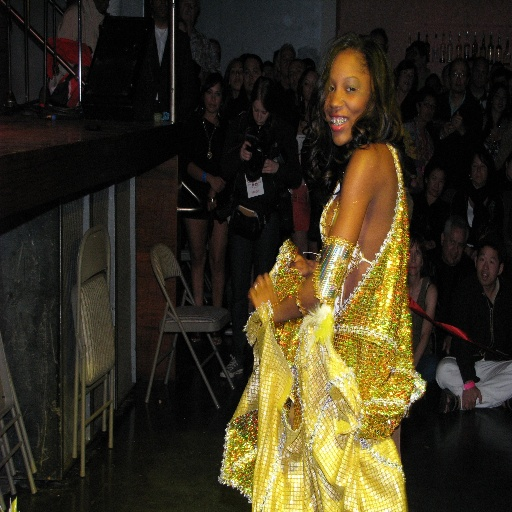hand: (247, 271, 279, 325), (288, 253, 311, 277), (461, 386, 482, 410), (240, 139, 252, 163), (261, 160, 278, 175), (211, 178, 226, 193), (451, 112, 461, 133), (441, 337, 453, 354), (208, 193, 217, 213), (443, 122, 455, 136), (424, 242, 433, 250)
